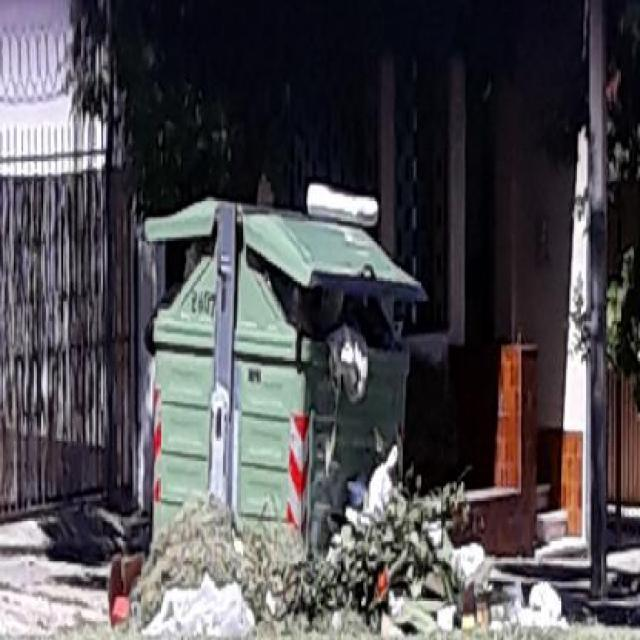garbage: (115, 514, 400, 640), (405, 531, 569, 640), (354, 449, 463, 520), (322, 316, 382, 412)
